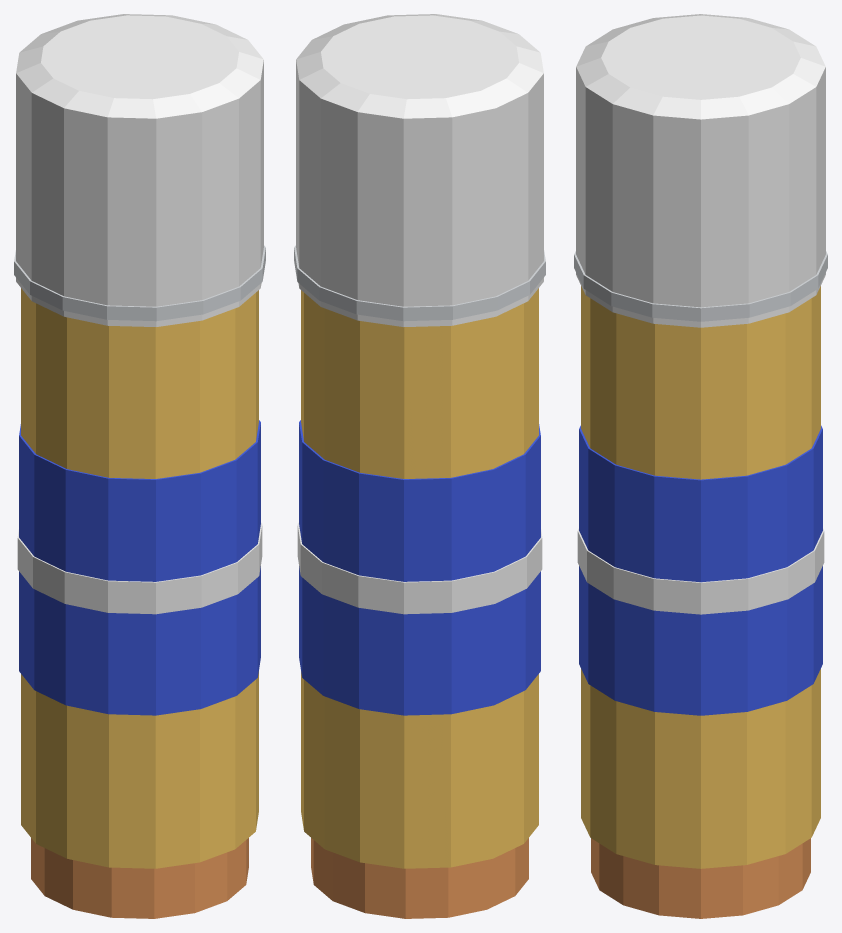
Rendered from glue_stick.glb.
3 views of the same model, side by side, from view 1: azimuth 30°, elevation 25°; view 2: azimuth 150°, elevation 25°; view 3: azimuth 270°, elevation 25° (orthographic).
Visible parts, largest first — view 1: Cylinder.001, Cylinder.002, Cylinder.004, Cone, Cylinder, Cylinder.003, Cylinder.005; view 2: Cylinder.001, Cylinder.002, Cylinder.004, Cone, Cylinder, Cylinder.003, Cylinder.005; view 3: Cylinder.001, Cylinder.002, Cylinder.004, Cone, Cylinder, Cylinder.003, Cylinder.005.
Part boxes in pixels (x1,y1,x2,y2): Cylinder.001: (21, 288, 258, 868); Cylinder.002: (19, 420, 260, 715); Cylinder.004: (16, 60, 263, 326); Cone: (16, 14, 263, 118); Cylinder: (31, 838, 248, 918); Cylinder.003: (17, 522, 262, 614); Cylinder.005: (14, 245, 265, 321); Cylinder.001: (301, 288, 538, 868); Cylinder.002: (299, 420, 540, 715); Cylinder.004: (296, 60, 543, 326); Cone: (296, 14, 543, 118); Cylinder: (311, 838, 528, 918); Cylinder.003: (297, 522, 542, 614); Cylinder.005: (294, 245, 545, 321); Cylinder.001: (581, 286, 820, 868); Cylinder.002: (579, 425, 822, 715); Cylinder.004: (576, 67, 825, 327); Cone: (576, 14, 825, 119); Cylinder: (591, 838, 810, 918); Cylinder.003: (577, 528, 824, 614); Cylinder.005: (574, 251, 827, 321).
Bounding box in the file's own units: 2.54 × 9 × 2.54.
